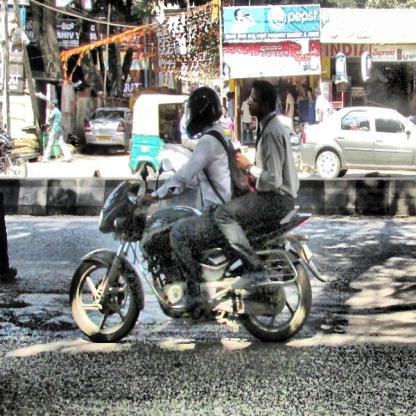not_wear: (244, 80, 271, 124)
wear: (181, 89, 222, 132)
